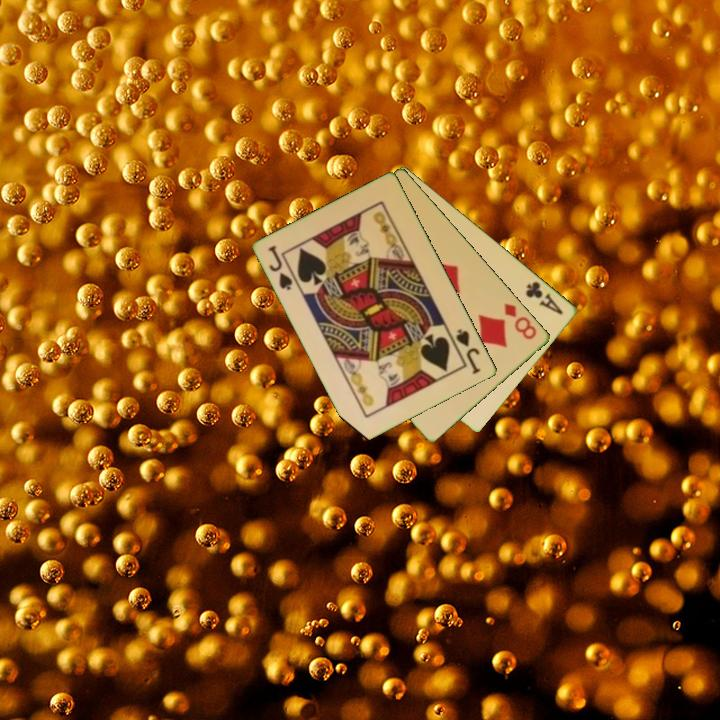8d: (501, 300, 540, 343)
Ac: (522, 278, 566, 318)
Js: (453, 325, 484, 377), (265, 242, 296, 293)
